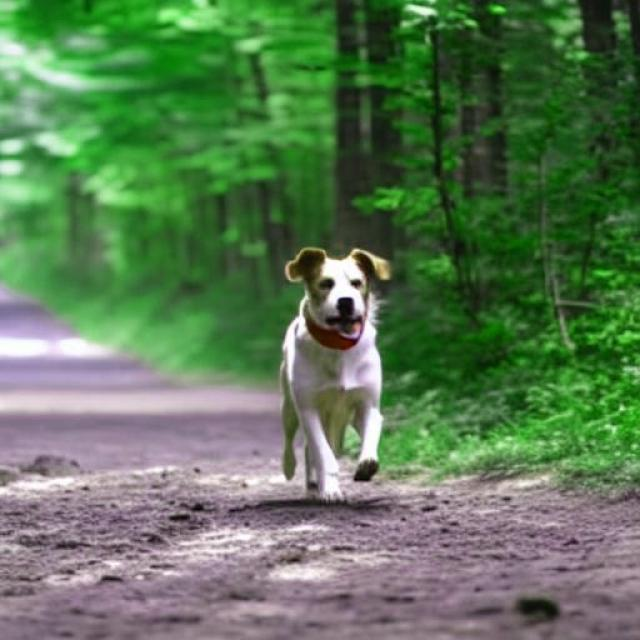Dog: (277, 246, 391, 504)
